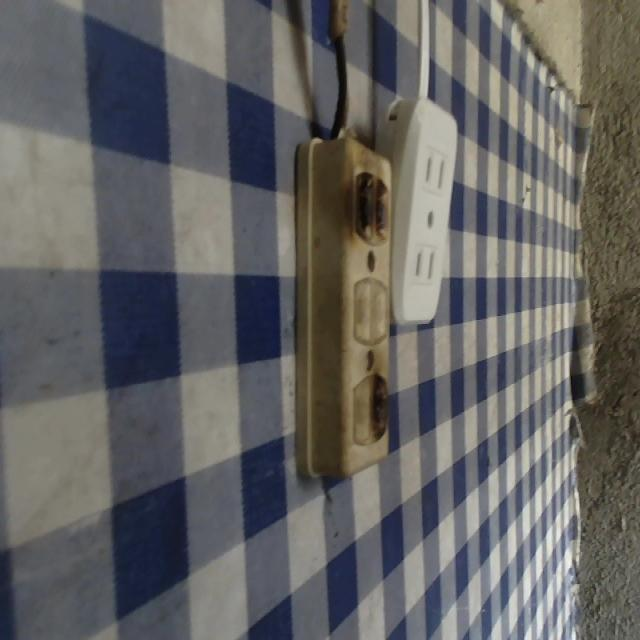-: (352, 168, 393, 245), (369, 374, 390, 438)
